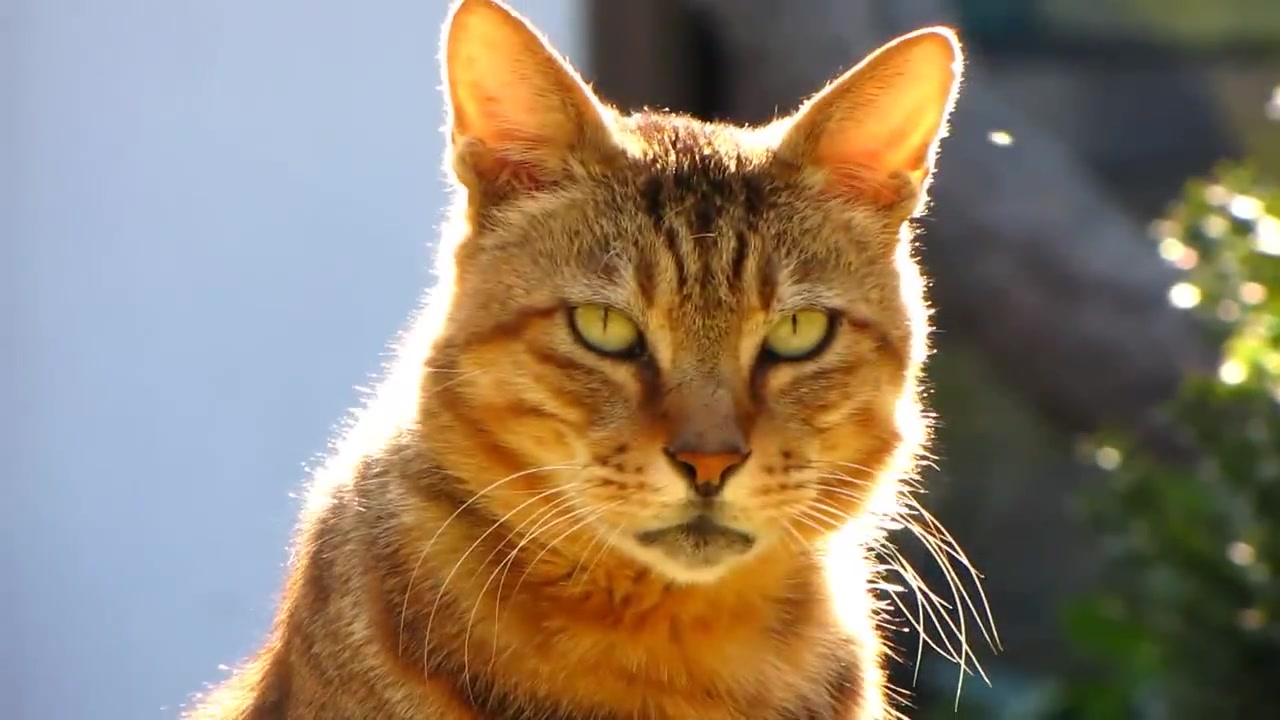cat: (191, 1, 967, 720)
